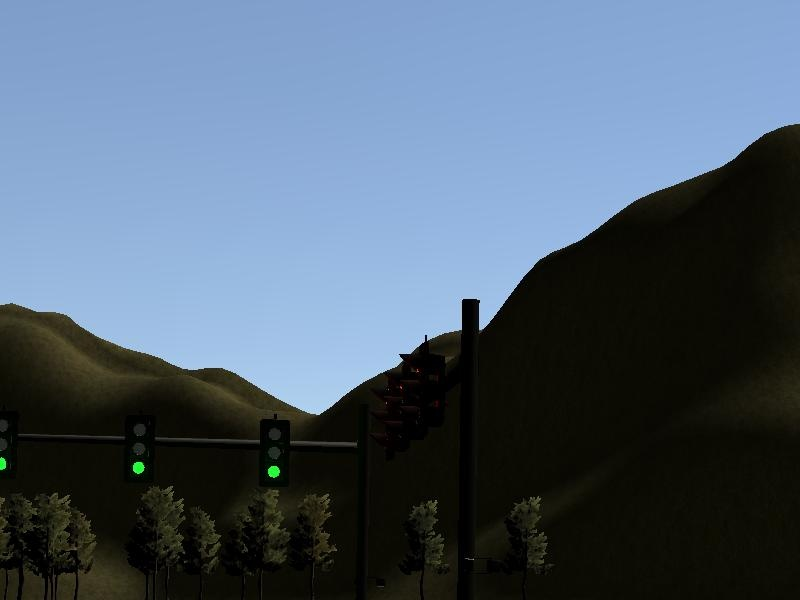GREEN: (254, 416, 290, 486), (127, 421, 153, 477)
